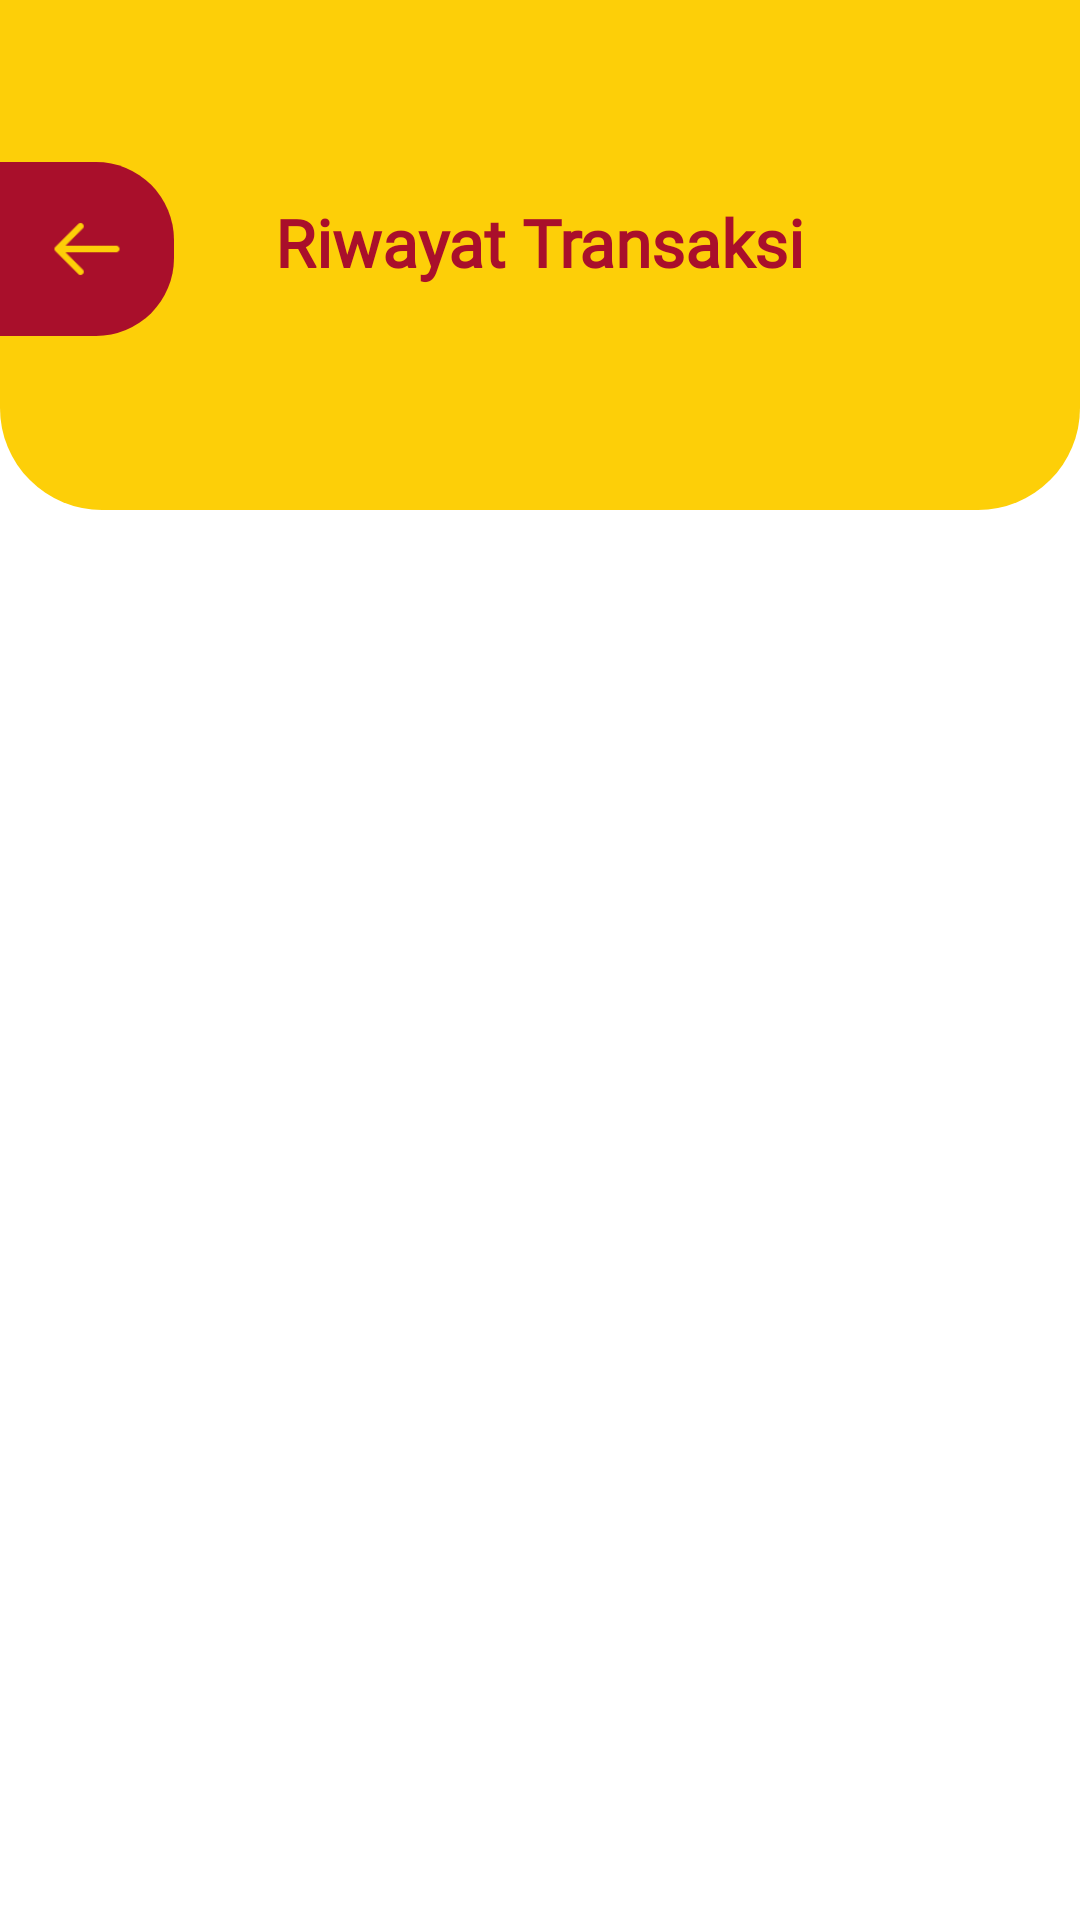

Icons on this 1080 x 1920 Android screen, each with the point to tap as (x,y):
back: (87,249)
